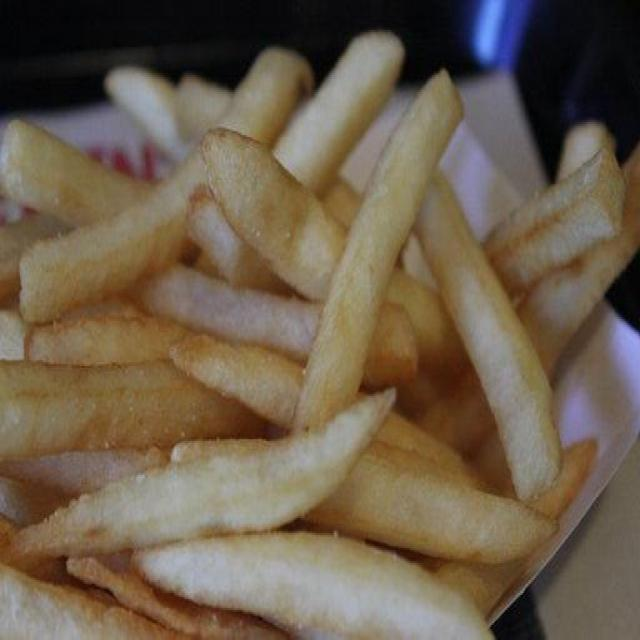food_waste: (1, 61, 589, 640), (285, 51, 455, 473), (2, 424, 414, 558), (128, 496, 508, 640), (472, 140, 640, 297)
